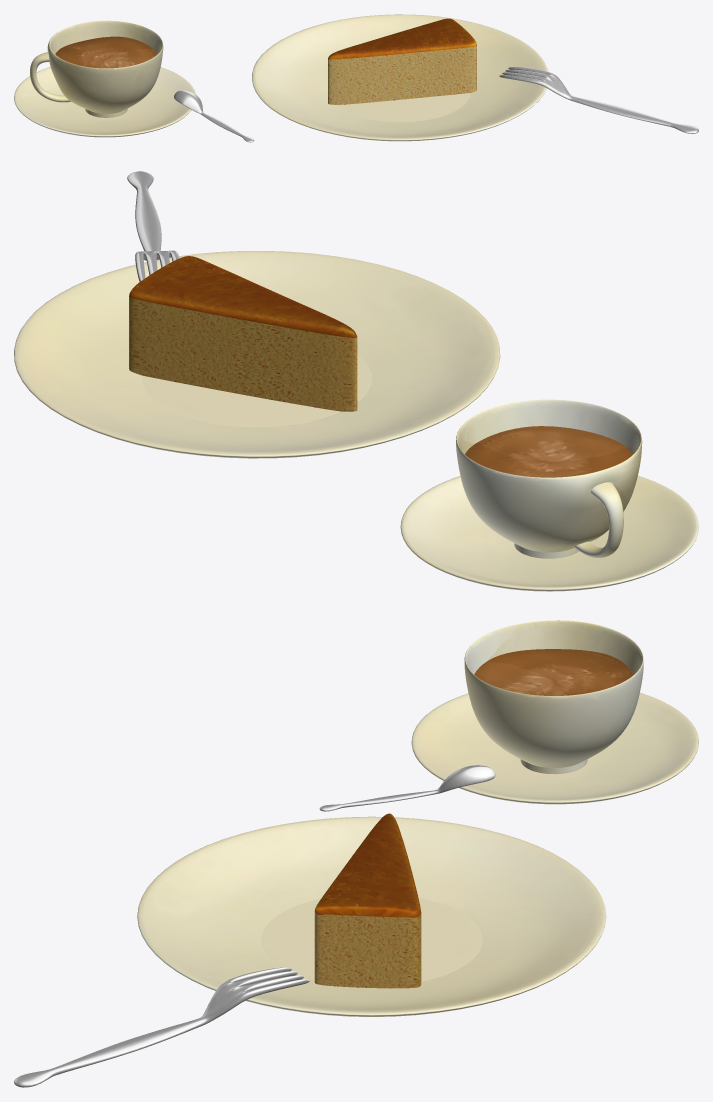
Rendered from coffee_cake.glb.
The picture shows the model from 3 angles, top to bottom: view 1: azimuth 30°, elevation 25°; view 2: azimuth 150°, elevation 25°; view 3: azimuth 270°, elevation 25°; orthographic projection. The views are drawn at different scales.
Parts seen in each view (by area): view 1: Object_5, Object_3; view 2: Object_5, Object_3; view 3: Object_5, Object_3.
Part boxes in pixels (box(x1,y1,x2,y2)): Object_5: box(14, 14, 548, 141); Object_3: box(174, 67, 698, 142); Object_5: box(14, 251, 698, 591); Object_3: box(127, 171, 179, 281); Object_5: box(137, 620, 698, 1016); Object_3: box(14, 765, 495, 1087).
Size of the model in its own units: 183 by 23.61 by 137.
Materials: 2 (2 with a texture image).
